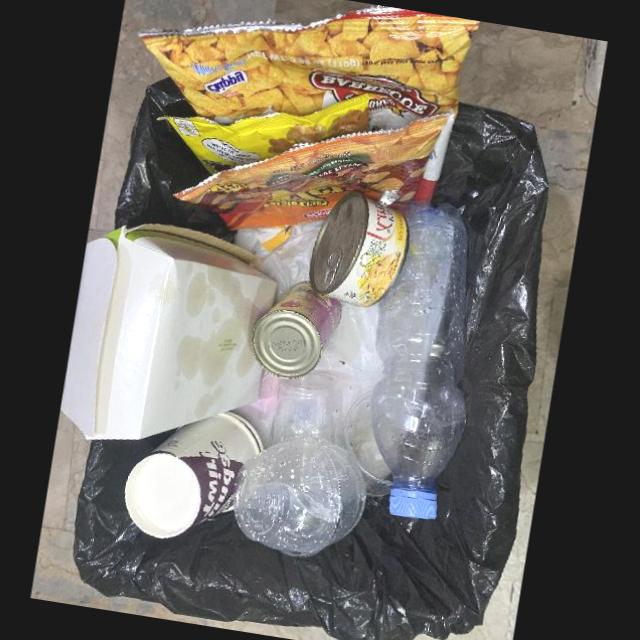bao_bi_thuc_pham: (137, 7, 479, 207), (174, 113, 451, 230), (166, 95, 373, 176)
carton: (60, 223, 277, 441), (125, 412, 263, 537)
chai_nhua: (234, 434, 367, 558), (269, 370, 345, 447)
chai_nhua_pet: (369, 201, 469, 520)
nhom: (309, 193, 410, 307), (252, 281, 342, 377)
